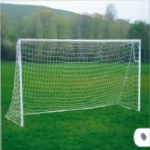goals: (5, 36, 145, 127)
